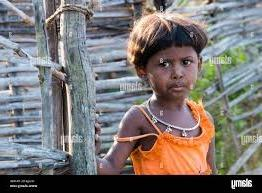Human: (94, 18, 236, 179)
